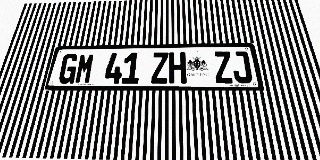1: (121, 53, 140, 84)
4: (104, 53, 124, 84)
G: (57, 53, 79, 84)
H: (169, 52, 187, 83)
J: (230, 51, 253, 83)
M: (74, 53, 95, 84)
Z: (213, 51, 234, 83), (151, 52, 168, 84)
